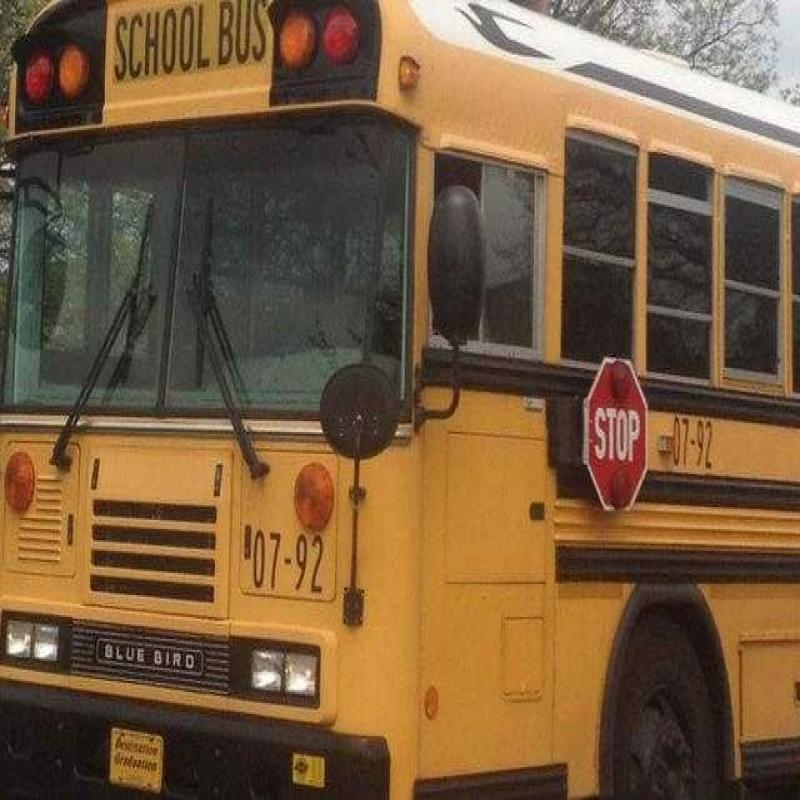bus: (3, 0, 800, 800)
